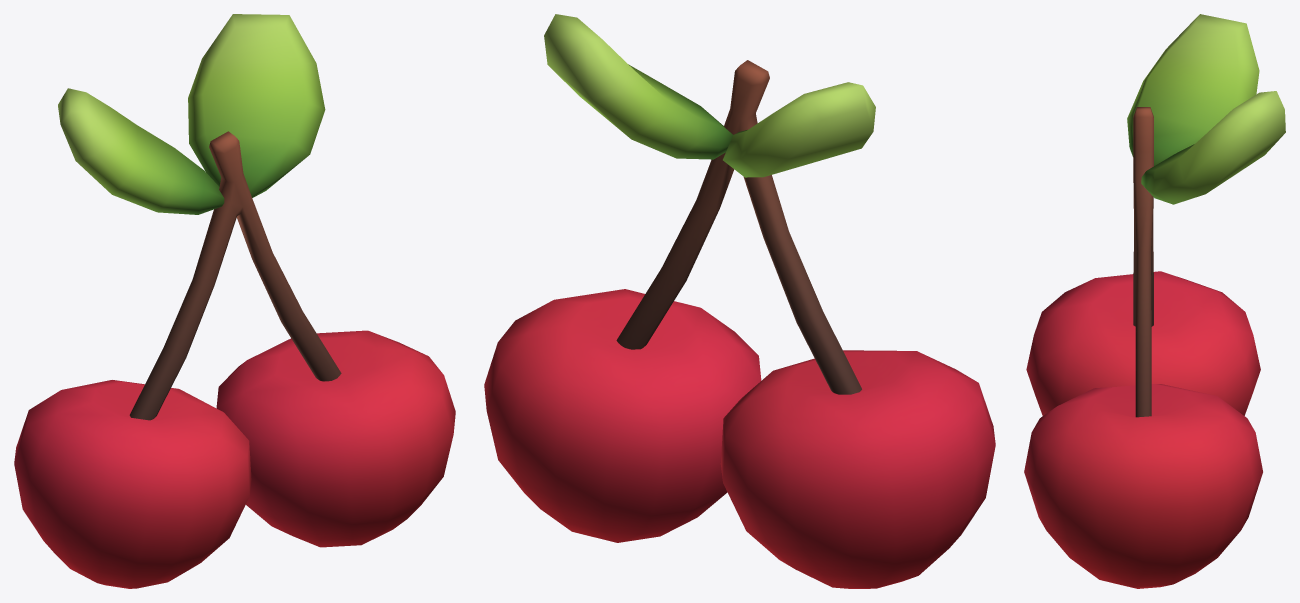
File: berries_001.fbx
The picture shows the model from 3 angles, left to right: view 1: azimuth 30°, elevation 25°; view 2: azimuth 150°, elevation 25°; view 3: azimuth 270°, elevation 25°; orthographic projection. The views are drawn at different scales.
Visible parts, largest first — view 1: berries_001; view 2: berries_001; view 3: berries_001.
Part boxes in pixels (x1,y1,x2,y2): berries_001: [14, 14, 455, 588]; berries_001: [484, 14, 995, 588]; berries_001: [1024, 14, 1285, 588].
Bounding box in the file's own units: 91.39 × 51.75 × 103.
